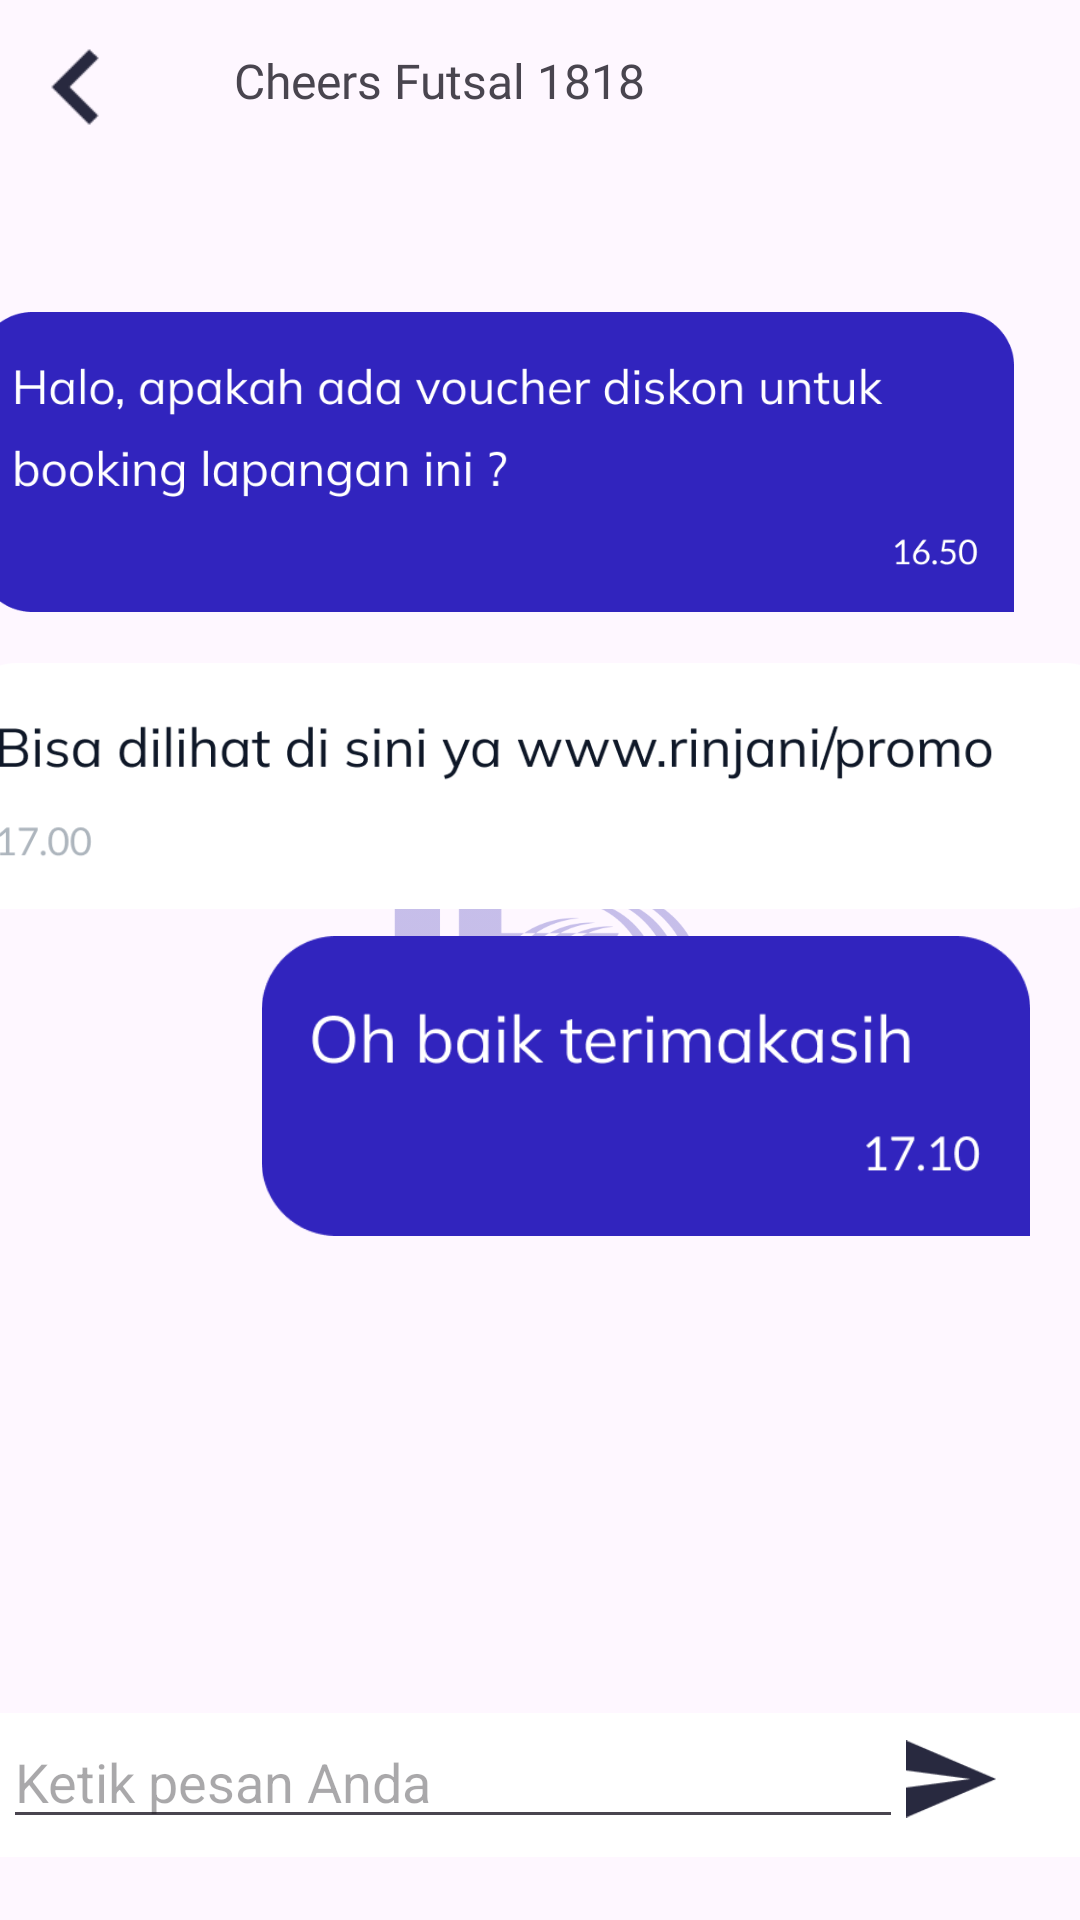

Icons on this 1080px×1920px Android screen, each with the point to tap as point (x, y):
back: point (75, 87)
